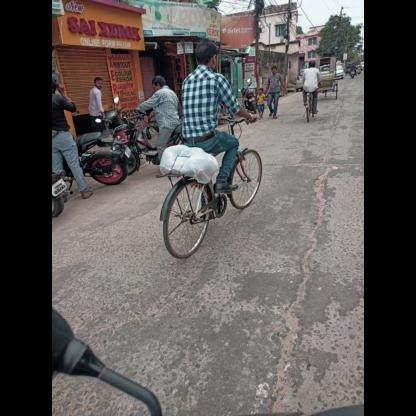Bicycle: (148, 111, 280, 271)
